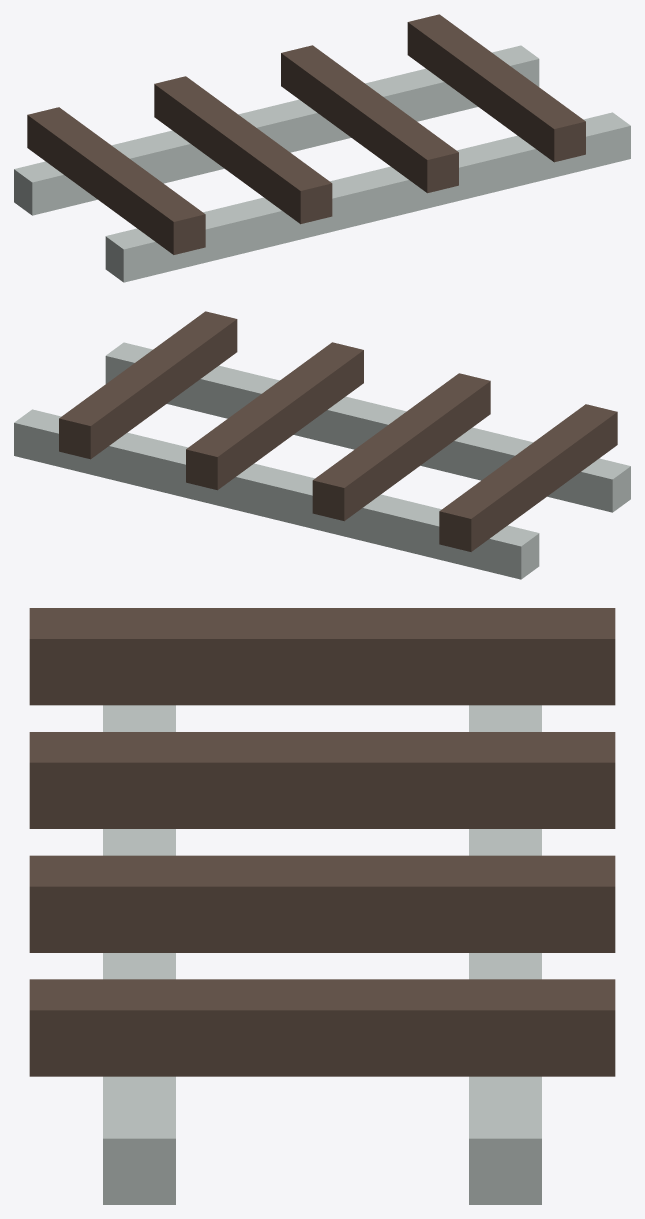
The model's file is tracks_01.fbx.
3 renders of one model, top to bottom at view 1: azimuth 30°, elevation 25°; view 2: azimuth 150°, elevation 25°; view 3: azimuth 270°, elevation 25°, orthographic. The views are drawn at different scales.
Visible parts, largest first — view 1: tracks_01_0; view 2: tracks_01_0; view 3: tracks_01_0.
Boxes of the visible parts, x1,y1,x2,y2 form: tracks_01_0: [14, 14, 630, 282]; tracks_01_0: [14, 311, 630, 579]; tracks_01_0: [29, 608, 615, 1204].
Size of the model in its own units: 1600 by 800 by 200.
